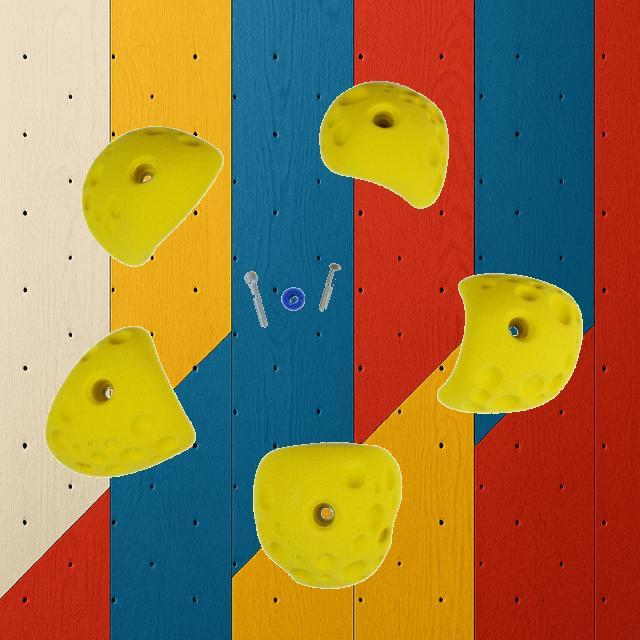Jug: (44, 325, 196, 477), (253, 442, 401, 588), (436, 272, 582, 412), (80, 126, 224, 266), (319, 79, 449, 209)
